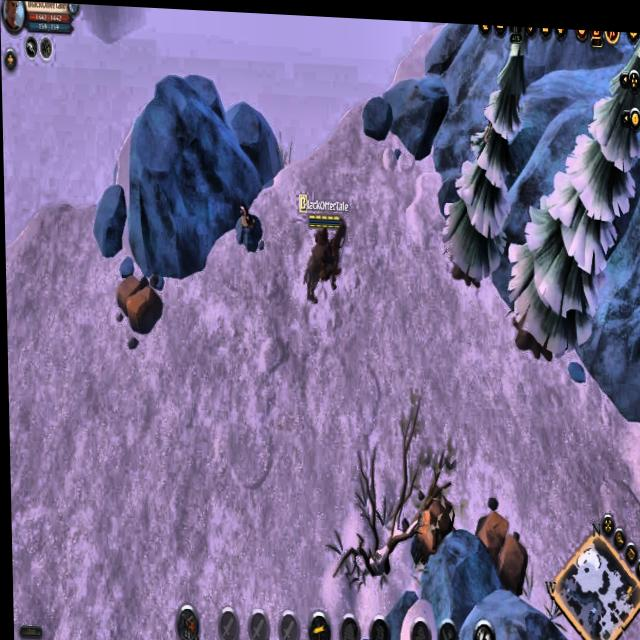copperore: (231, 194, 264, 252)
limestone: (470, 504, 527, 597), (407, 483, 454, 562), (109, 272, 163, 338)
